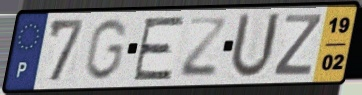7: (47, 19, 88, 85)
E: (130, 14, 188, 83)
G: (81, 17, 130, 83)
U: (227, 11, 283, 82)
Z: (270, 12, 325, 77), (176, 15, 230, 79)
